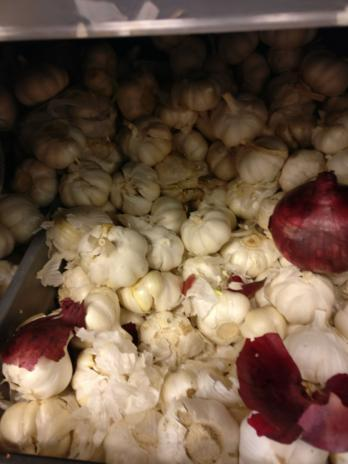Garlic: (0, 43, 348, 172), (1, 175, 273, 292), (80, 295, 231, 464), (228, 271, 348, 348)
